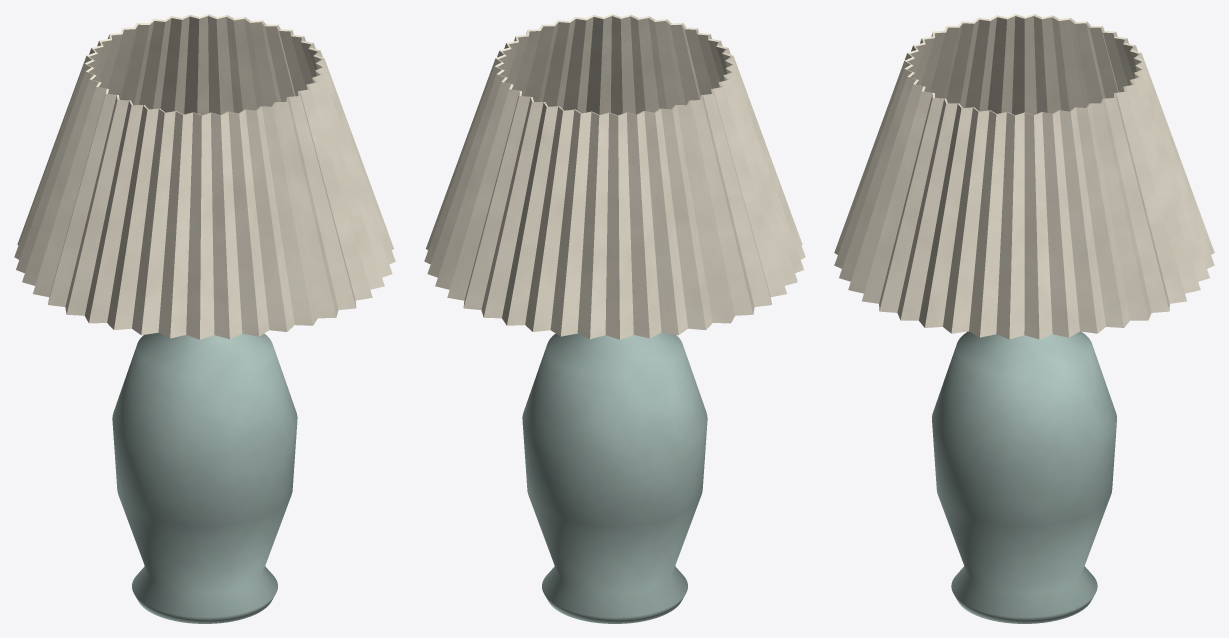
File: np_table_lamp_1k.fbx
3 views of the same model, side by side, from view 1: azimuth 30°, elevation 25°; view 2: azimuth 150°, elevation 25°; view 3: azimuth 270°, elevation 25° (orthographic).
Parts seen in each view (by area): view 1: np_table_lamp; view 2: np_table_lamp; view 3: np_table_lamp.
Part boxes in pixels (left/top/right/bottom): np_table_lamp: left=14, top=14, right=395, bottom=623; np_table_lamp: left=424, top=14, right=805, bottom=623; np_table_lamp: left=834, top=14, right=1214, bottom=623.
Bounding box in the file's own units: 0.3902 × 0.6 × 0.3902.
1 material, 1 textured.
